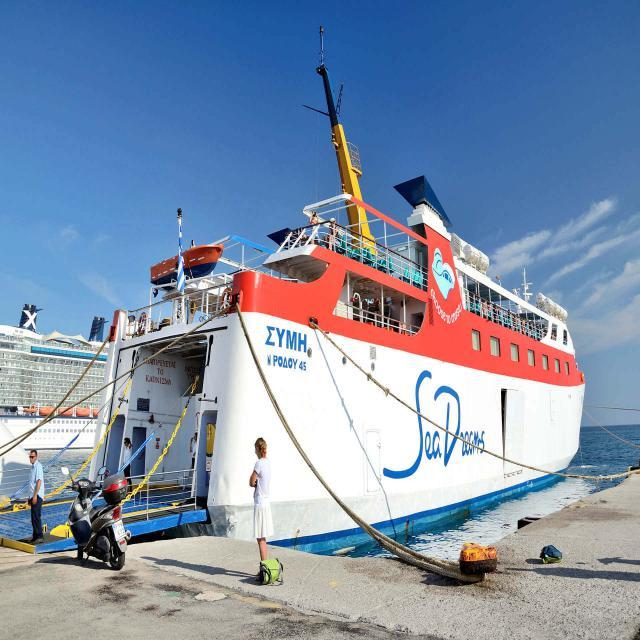ship: (88, 28, 587, 564)
